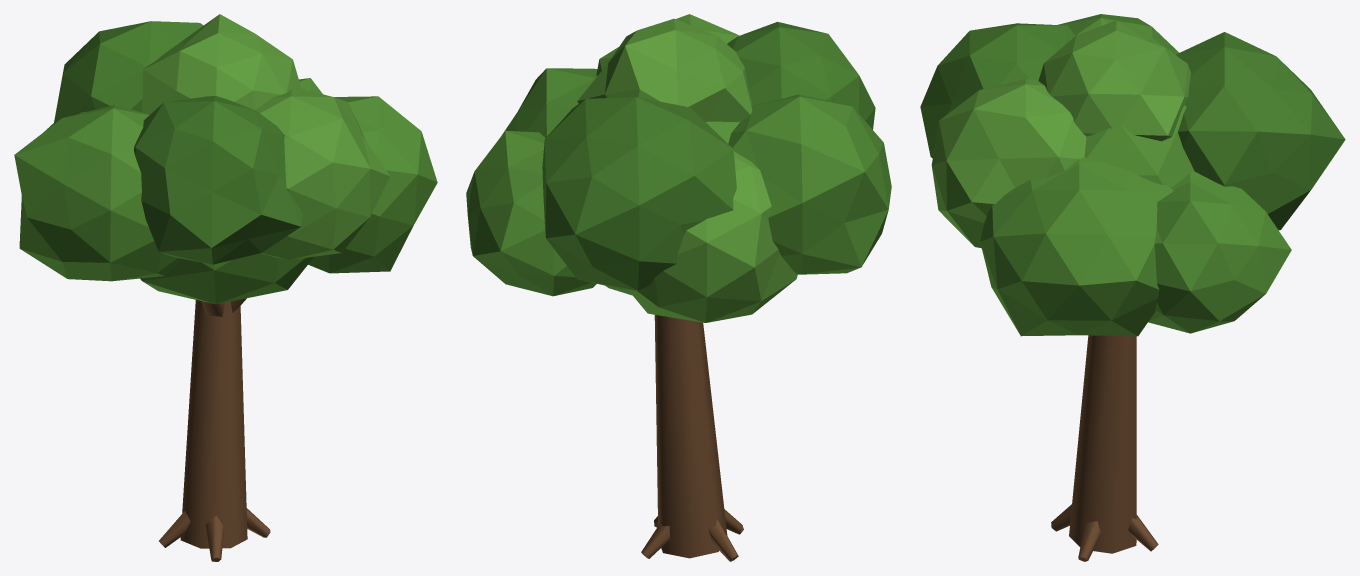
File: tree_oak_2.glb
3 views of the same model, side by side, from view 1: azimuth 30°, elevation 25°; view 2: azimuth 150°, elevation 25°; view 3: azimuth 270°, elevation 25° (orthographic). The views are drawn at different scales.
Parts seen in each view (by area): view 1: crown, trunk; view 2: crown, trunk; view 3: crown, trunk.
Part boxes in pixels (left/top/right/bottom): crown: left=14, top=14, right=437, bottom=304; trunk: left=159, top=298, right=270, bottom=561; crown: left=466, top=14, right=891, bottom=322; trunk: left=641, top=315, right=743, bottom=561; crown: left=920, top=14, right=1345, bottom=336; trunk: left=1051, top=335, right=1158, bottom=561.
Bounding box in the file's own units: 2.42 × 3.04 × 2.27.
